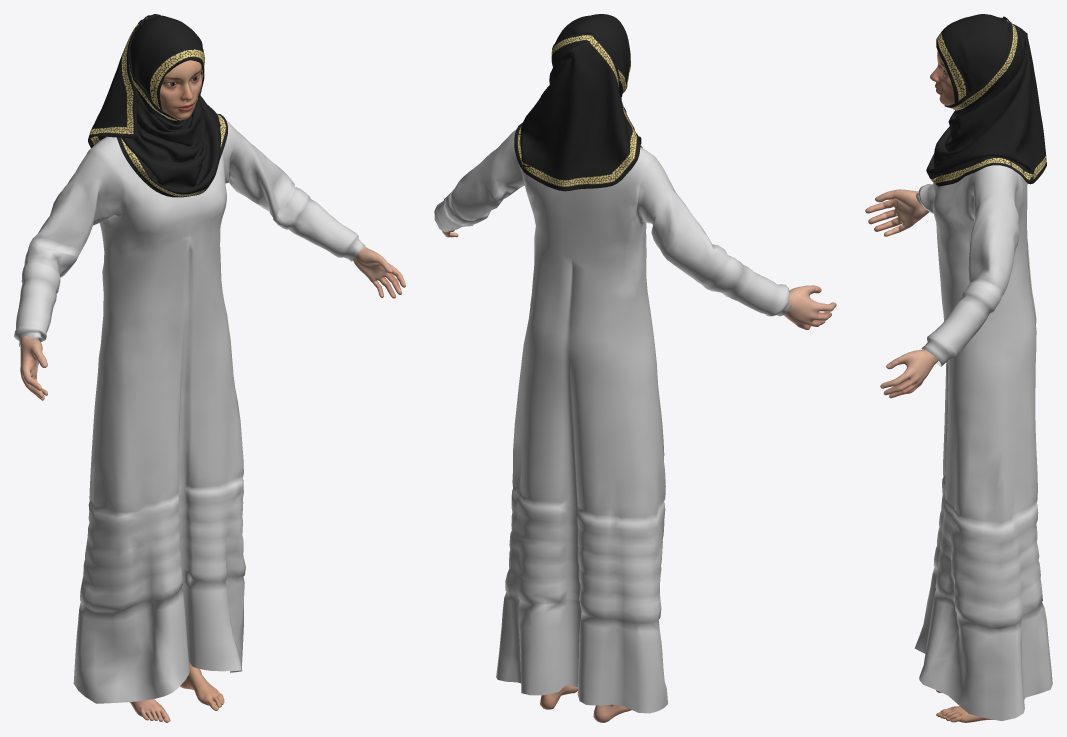
3 views of the same model, side by side, from view 1: azimuth 30°, elevation 25°; view 2: azimuth 150°, elevation 25°; view 3: azimuth 270°, elevation 25° (orthographic).
Visible parts, largest first — view 1: Female Legs 3d Model Good Topology.002_hijab_C_low1blin.002_, Female Legs 3d Model Good Topology.002; view 2: Female Legs 3d Model Good Topology.002_hijab_C_low1blin.002_, Female Legs 3d Model Good Topology.002; view 3: Female Legs 3d Model Good Topology.002_hijab_C_low1blin.002_, Female Legs 3d Model Good Topology.002.
Part boxes in pixels (x1,y1,x2,y2): Female Legs 3d Model Good Topology.002_hijab_C_low1blin.002_: (14, 119, 364, 703); Female Legs 3d Model Good Topology.002: (20, 14, 405, 722); Female Legs 3d Model Good Topology.002_hijab_C_low1blin.002_: (434, 130, 791, 713); Female Legs 3d Model Good Topology.002: (440, 14, 836, 722); Female Legs 3d Model Good Topology.002_hijab_C_low1blin.002_: (914, 165, 1052, 720); Female Legs 3d Model Good Topology.002: (865, 14, 1046, 722).
Bounding box in the file's own units: 5.14 × 8.8 × 2.18.
Materials: 7 (6 with a texture image).
